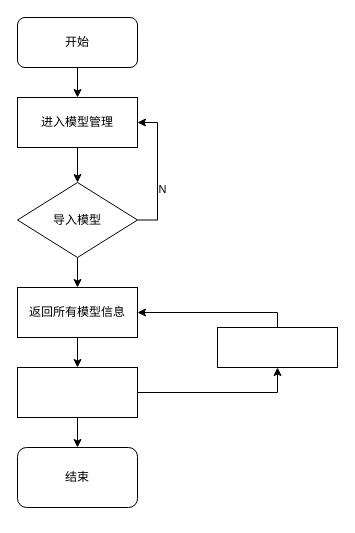
Image size: 355x533. Some labels were removed from this diagram. Here are the shapes that lost their labels. From the top down, the centre of each, then its label:
point (277, 347): 更新模型信息
point (77, 392): 选择模型进行对抗
